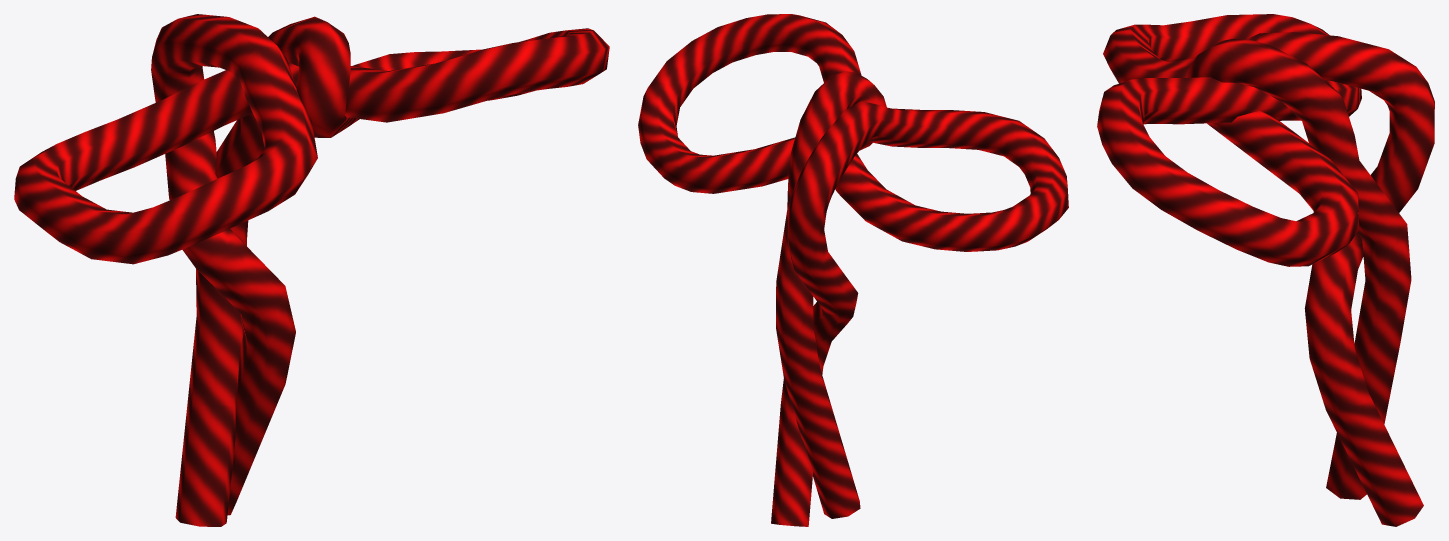
File: Rope02.fbx
The picture shows the model from 3 angles, left to right: view 1: azimuth 30°, elevation 25°; view 2: azimuth 150°, elevation 25°; view 3: azimuth 270°, elevation 25°; orthographic projection. The views are drawn at different scales.
Parts seen in each view (by area): view 1: Rope02; view 2: Rope02; view 3: Rope02.
Part boxes in pixels (x1=…): Rope02: x1=14, y1=14, x2=609, y2=526; Rope02: x1=638, y1=14, x2=1068, y2=526; Rope02: x1=1097, y1=14, x2=1434, y2=526.
Size of the model in its own units: 23.98 by 22.81 by 14.27.
Materials: 1 (1 with a texture image).
